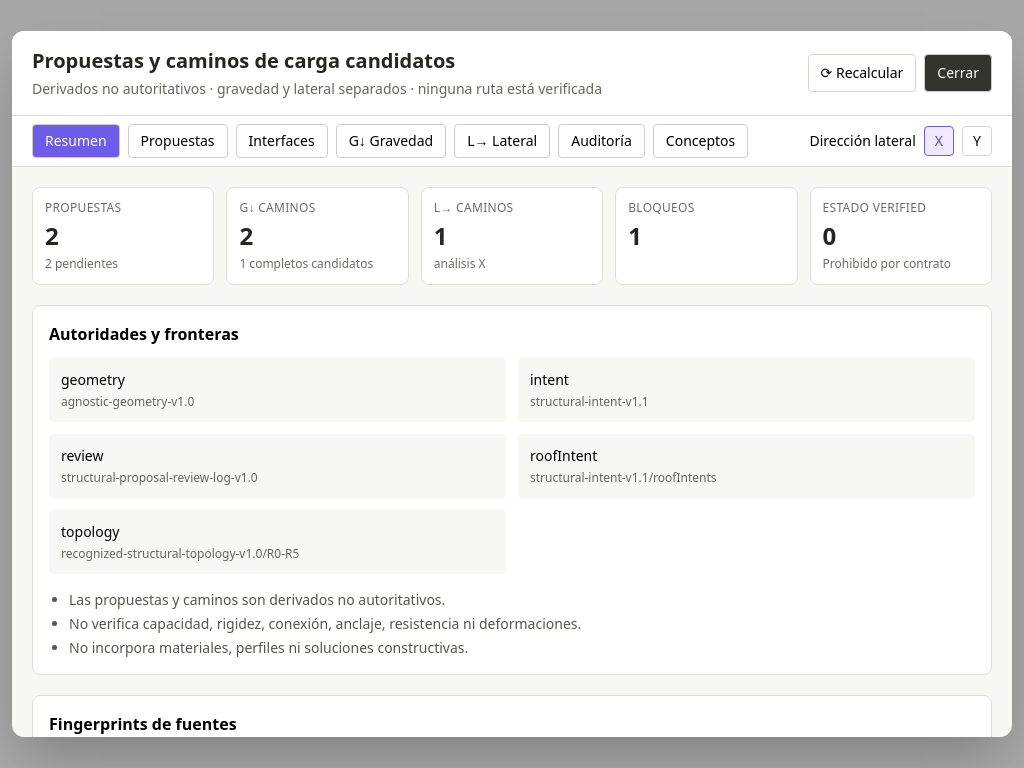
Test: SPEC-015-D: grafo lateral usa descriptor humano y muestra gap explícito
Click the button "L→ Lateral". click: (502, 141)
box: [454, 124, 550, 158]
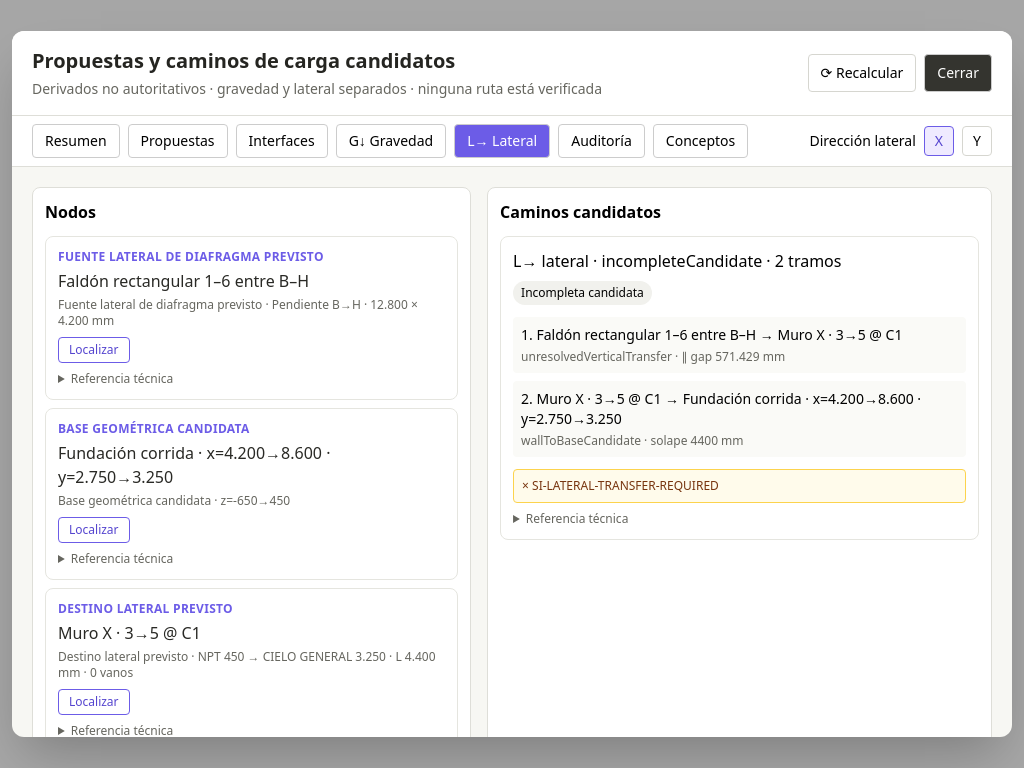
Expected: the text "unresolvedVerticalTransfer · ∥ gap 571.429 mm" is shown, [521, 348, 785, 365]
